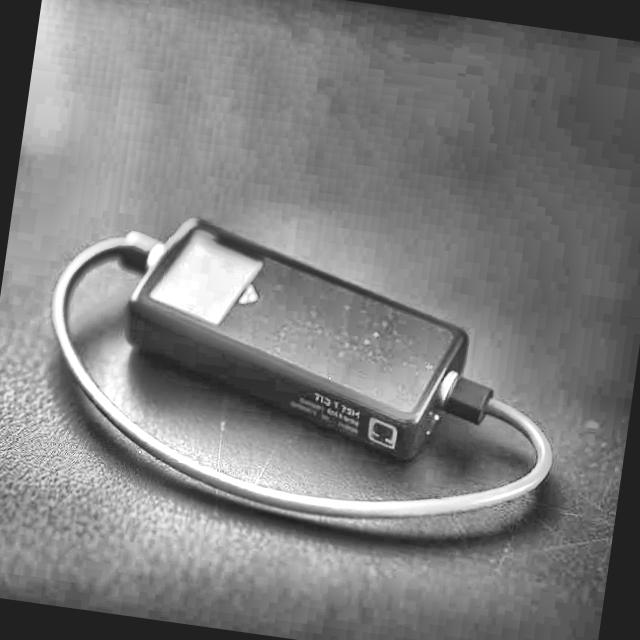Battery: (120, 214, 466, 461)
Cable: (50, 234, 561, 520)
